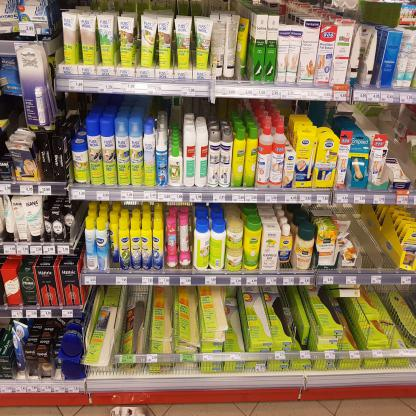Void: (360, 212, 396, 268)
